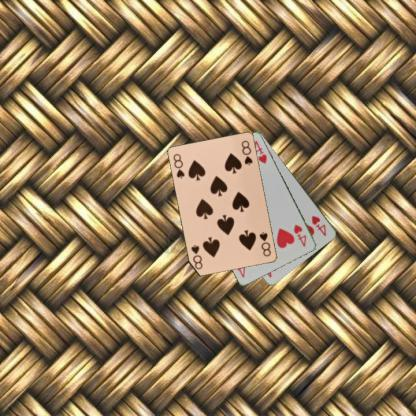4h: (309, 213, 328, 238), (291, 222, 308, 248)
8s: (257, 229, 272, 258), (171, 151, 186, 180)
